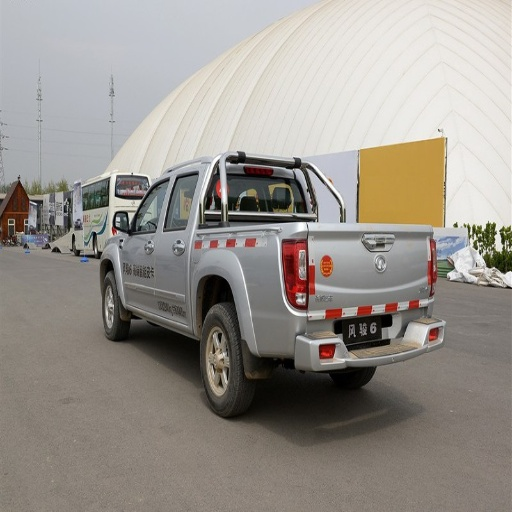back_bumper: (285, 297, 437, 371)
back_glass: (300, 25, 380, 66)
back_left_door: (161, 180, 190, 290)
trunk: (170, 220, 429, 358)
